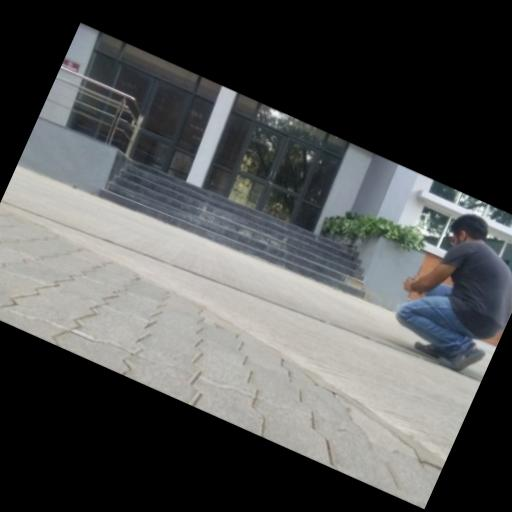stairs: (100, 162, 364, 297)
